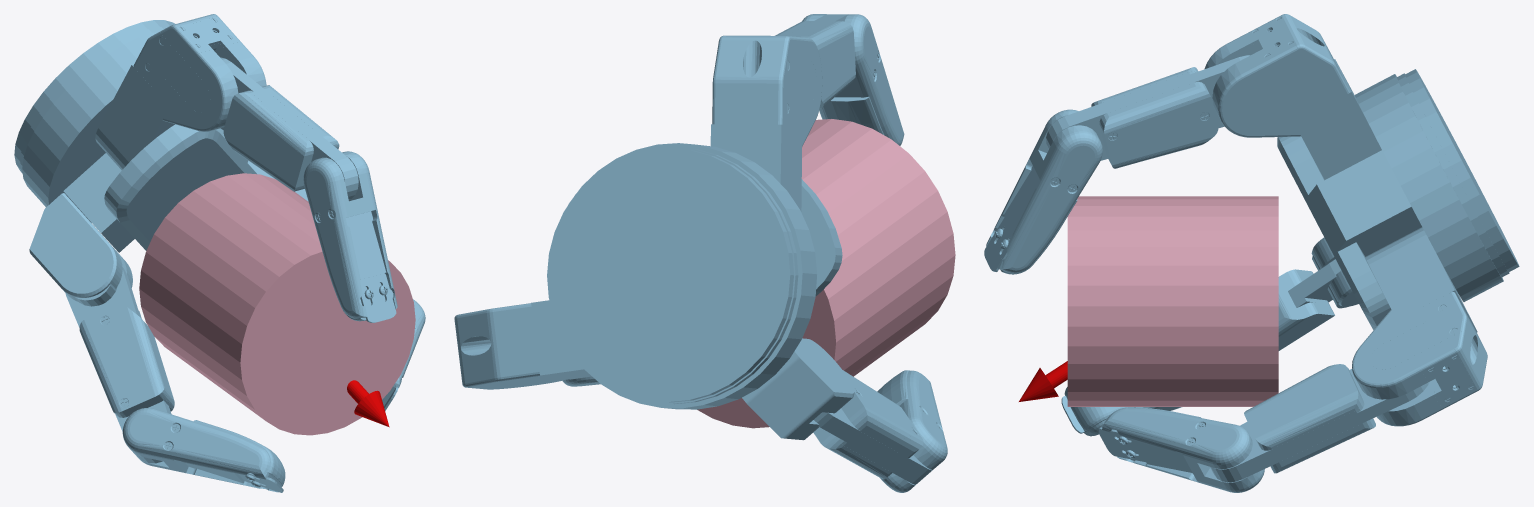
The picture shows the model from 3 angles, left to right: view 1: azimuth 30°, elevation 25°; view 2: azimuth 150°, elevation 25°; view 3: azimuth 270°, elevation 25°; orthographic projection. The views are drawn at different scales.
Parts seen in each view (by area): view 1: world, cylinder_medium.stl; view 2: world, cylinder_medium.stl; view 3: world, cylinder_medium.stl.
Part boxes in pixels (x1=…): world: x1=14, y1=14, x2=425, y2=492; cylinder_medium.stl: x1=139, y1=173, x2=415, y2=435; world: x1=454, y1=14, x2=947, y2=492; cylinder_medium.stl: x1=697, y1=119, x2=955, y2=428; world: x1=984, y1=14, x2=1519, y2=492; cylinder_medium.stl: x1=1067, y1=196, x2=1278, y2=406.
Bounding box in the file's own units: 0.143 × 0.1744 × 0.2029.
